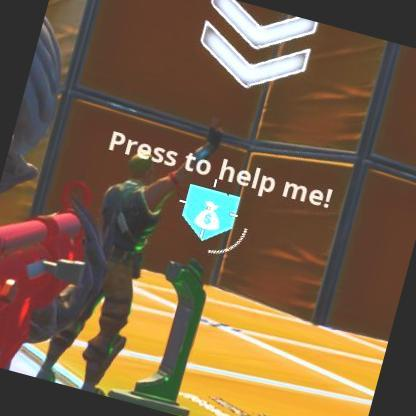person: (54, 122, 188, 400)
